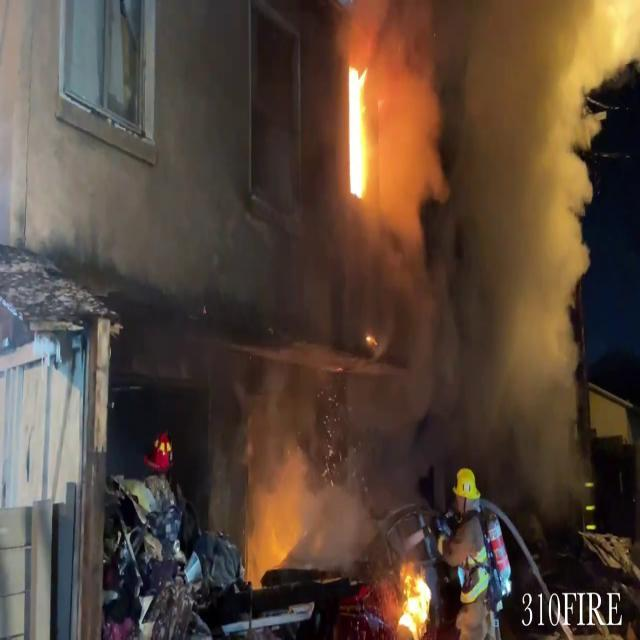Fire: (368, 0, 459, 240), (344, 50, 372, 200), (388, 561, 436, 639)
Smoke: (206, 315, 378, 573)
